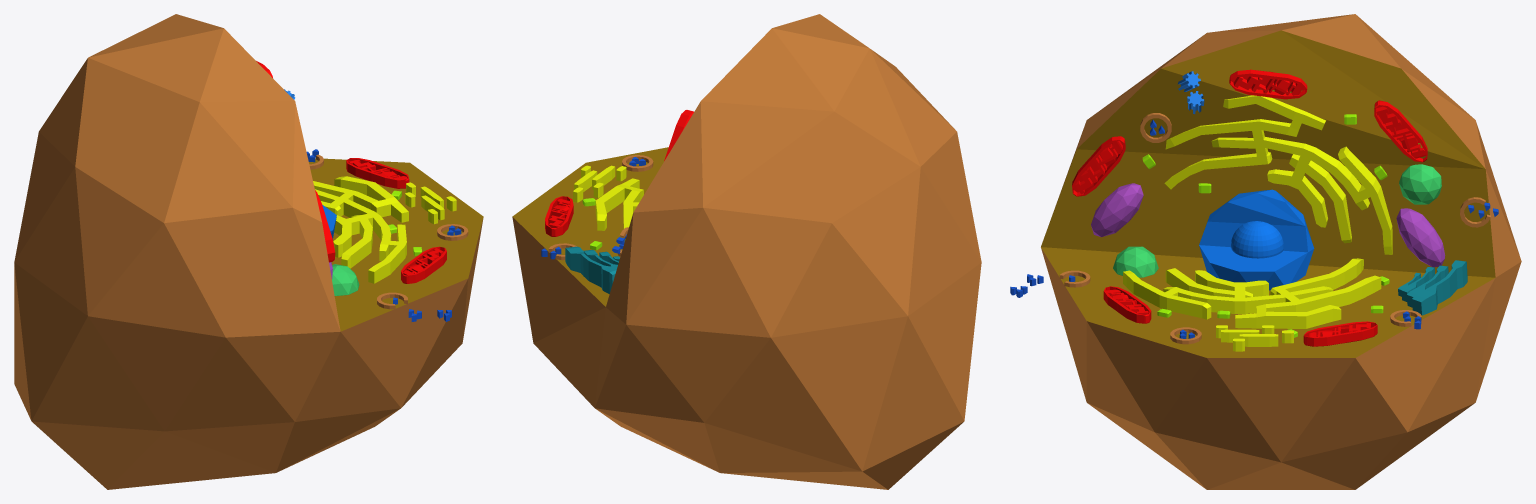
File: animal_cell_new.glb
The picture shows the model from 3 angles, left to right: view 1: azimuth 30°, elevation 25°; view 2: azimuth 150°, elevation 25°; view 3: azimuth 270°, elevation 25°; orthographic projection.
Parts seen in each view (by area): view 1: CellBodyAndTissue, InnerCellBodyAndTissue, Rough_EndoplasmicReticulum, Mitochondria, Mitochondria.001, Rough_Endoplasmic_Reticulum, GolgiBody.001; view 2: CellBodyAndTissue, InnerCellBodyAndTissue, Plasmodesmata, Rough_EndoplasmicReticulum, Rough_Endoplasmic_Reticulum, Mitochondria; view 3: InnerCellBodyAndTissue, CellBodyAndTissue, RoughEndoplasmicReticulum, Rough_EndoplasmicReticulum, CellNucleus, Plasmodesmata, Chiroplast, Mitochondria.003, Chrioplast, Mitochondria.004, Mitochondria.002, GolgiBody (+4 smaller).
Part boxes in pixels (x1=…): CellBodyAndTissue: x1=14, y1=14, x2=483, y2=489; InnerCellBodyAndTissue: x1=309, y1=158, x2=483, y2=331; Rough_EndoplasmicReticulum: x1=313, y1=176, x2=408, y2=283; Mitochondria: x1=346, y1=158, x2=409, y2=188; Mitochondria.001: x1=401, y1=246, x2=446, y2=283; Rough_Endoplasmic_Reticulum: x1=405, y1=182, x2=456, y2=224; GolgiBody.001: x1=332, y1=264, x2=359, y2=296; CellBodyAndTissue: x1=512, y1=14, x2=981, y2=489; InnerCellBodyAndTissue: x1=512, y1=147, x2=668, y2=306; Plasmodesmata: x1=565, y1=246, x2=619, y2=293; Rough_EndoplasmicReticulum: x1=595, y1=178, x2=643, y2=241; Rough_Endoplasmic_Reticulum: x1=573, y1=165, x2=626, y2=202; Mitochondria: x1=545, y1=196, x2=573, y2=236; InnerCellBodyAndTissue: x1=1041, y1=30, x2=1495, y2=357; CellBodyAndTissue: x1=1041, y1=14, x2=1521, y2=489; RoughEndoplasmicReticulum: x1=1164, y1=95, x2=1392, y2=254; Rough_EndoplasmicReticulum: x1=1123, y1=258, x2=1381, y2=328; CellNucleus: x1=1199, y1=189, x2=1314, y2=290; Plasmodesmata: x1=1398, y1=260, x2=1467, y2=315; Chiroplast: x1=1396, y1=208, x2=1445, y2=267; Mitochondria.003: x1=1229, y1=69, x2=1307, y2=99; Chrioplast: x1=1091, y1=183, x2=1143, y2=237; Mitochondria.004: x1=1374, y1=100, x2=1427, y2=162; Mitochondria.002: x1=1072, y1=136, x2=1125, y2=196; GolgiBody: x1=1399, y1=164, x2=1441, y2=204.
Size of the model in its own units: 8.47 by 8.45 by 8.95.
